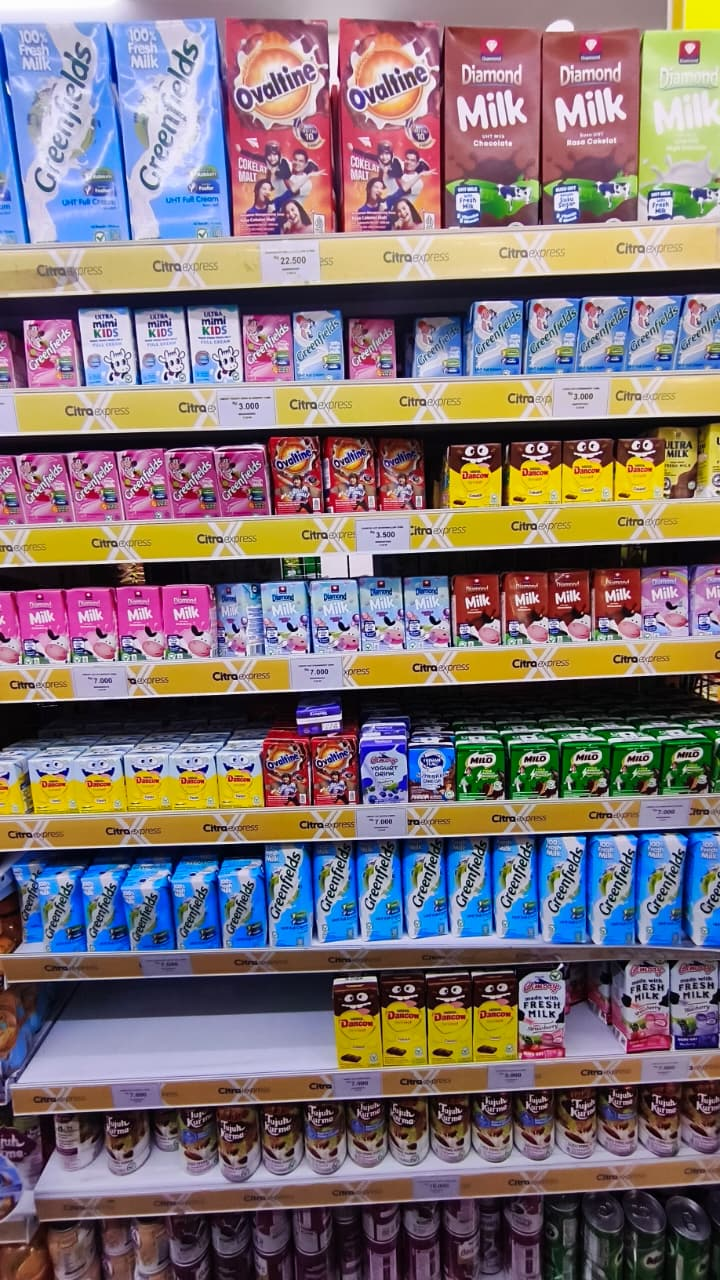Diamond Milk: (440, 43, 540, 172), (552, 37, 652, 166)
Ovaltime: (224, 28, 324, 157), (335, 31, 435, 160)
